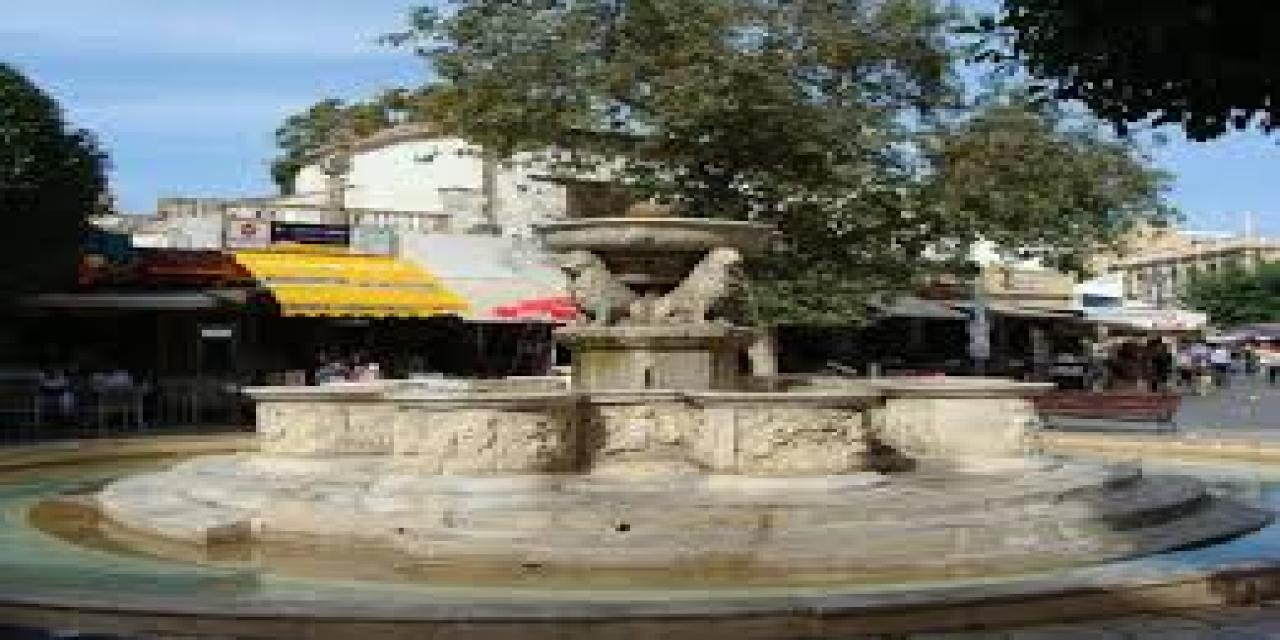Liontaria: (256, 208, 1061, 485)
